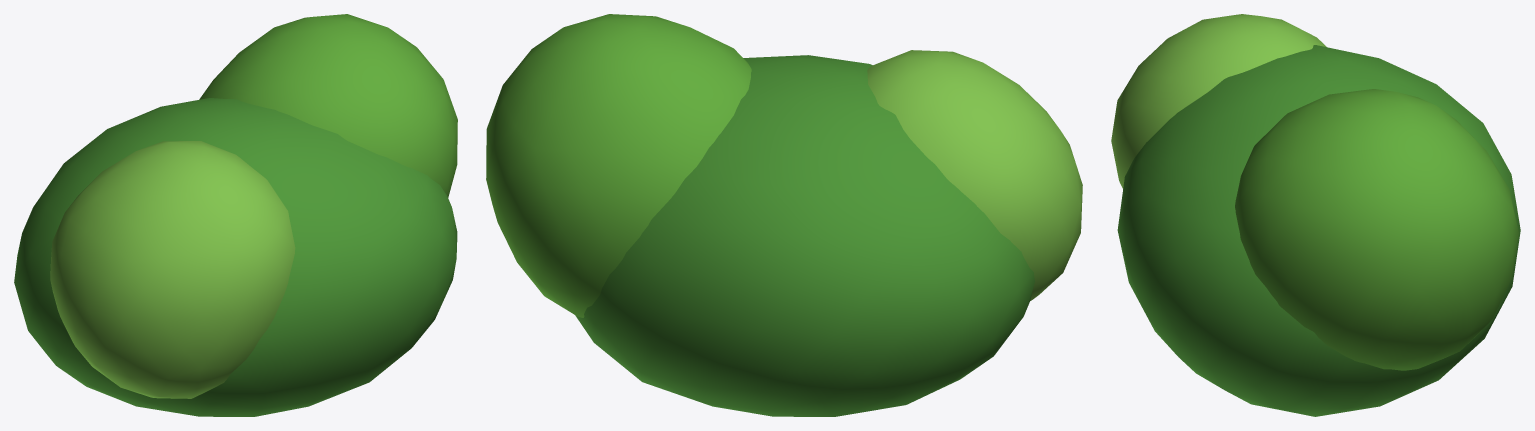
File: prop_bush_0.glb
The picture shows the model from 3 angles, left to right: view 1: azimuth 30°, elevation 25°; view 2: azimuth 150°, elevation 25°; view 3: azimuth 270°, elevation 25°; orthographic projection. The views are drawn at different scales.
Visible parts, largest first — view 1: BushA, BushC, BushB; view 2: BushA, BushB, BushC; view 3: BushB, BushA, BushC.
Part boxes in pixels (x1,y1,x2,y2): BushA: [14, 98, 457, 416]; BushC: [50, 141, 295, 398]; BushB: [199, 14, 457, 197]; BushA: [575, 55, 1034, 416]; BushB: [486, 14, 751, 317]; BushC: [867, 50, 1082, 300]; BushB: [1235, 89, 1518, 370]; BushA: [1117, 45, 1520, 416]; BushC: [1111, 14, 1326, 188].
Bounding box in the file's own units: 1.81 × 1.27 × 1.4.
